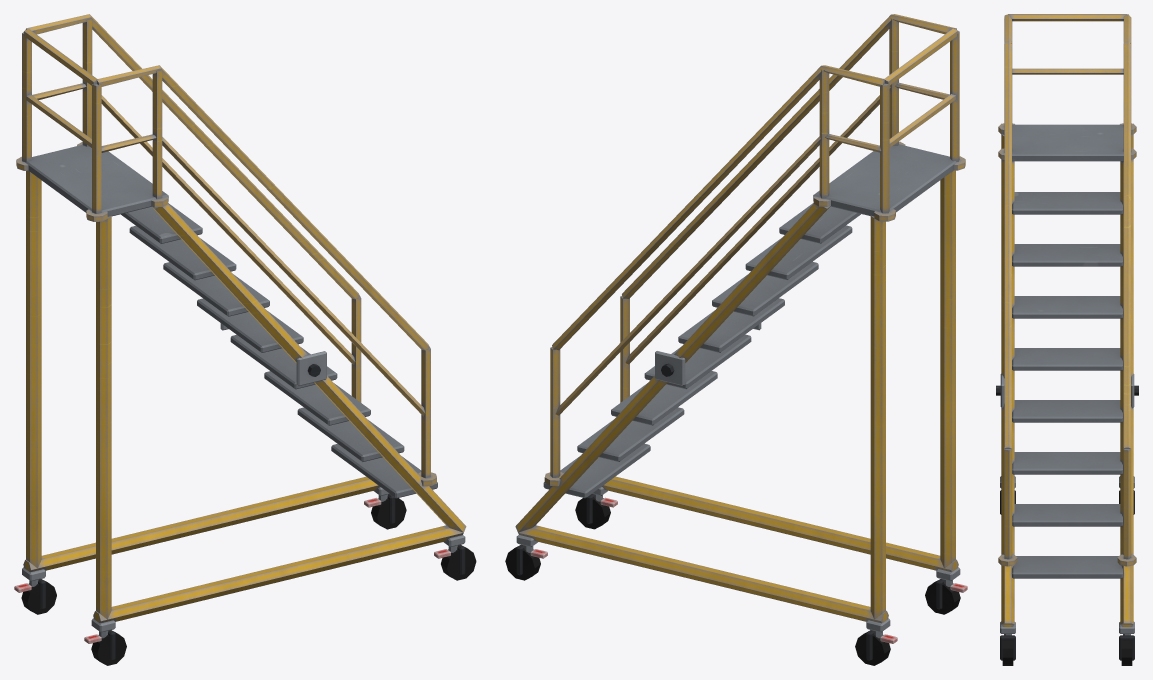
Rendered from escalera_nave.fbx.
3 renders of one model, left to right at view 1: azimuth 30°, elevation 25°; view 2: azimuth 150°, elevation 25°; view 3: azimuth 270°, elevation 25°, orthographic. The views are drawn at different scales.
Visible parts, largest first — view 1: escalera_nave; view 2: escalera_nave; view 3: escalera_nave.
Part boxes in pixels (left/top/right/bottom): escalera_nave: left=14, top=14, right=476, bottom=665; escalera_nave: left=505, top=14, right=967, bottom=665; escalera_nave: left=996, top=14, right=1138, bottom=665.
Size of the model in its own units: 2.88 by 4.16 by 1.08.
Materials: 1 (1 with a texture image).
